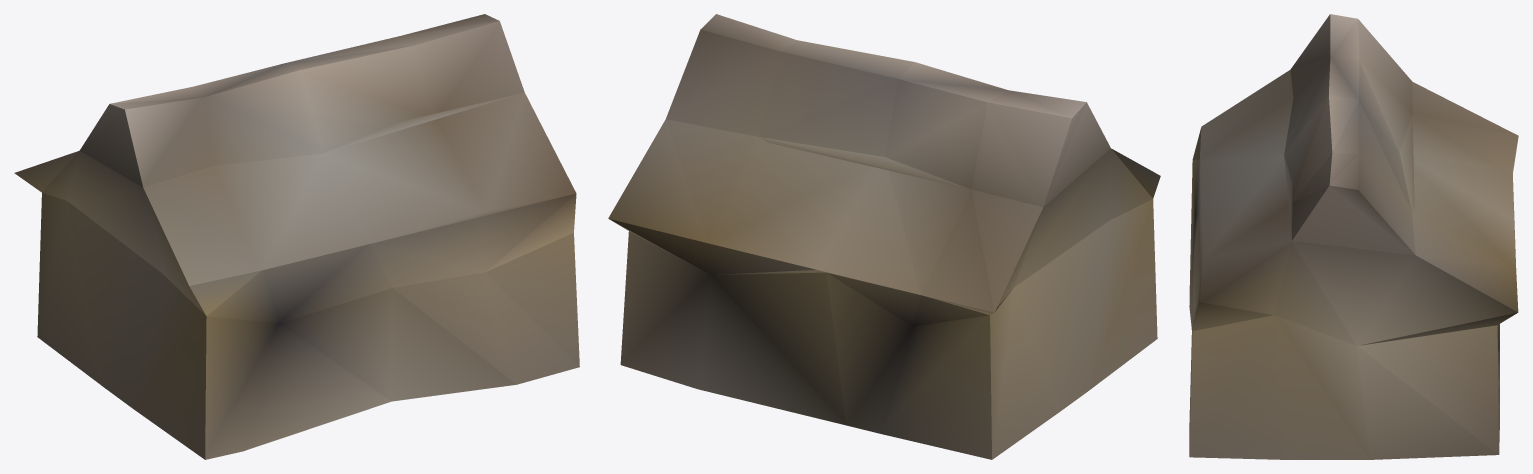
Rendered from hut_lod2.glb.
3 renders of one model, left to right at view 1: azimuth 30°, elevation 25°; view 2: azimuth 150°, elevation 25°; view 3: azimuth 270°, elevation 25°, orthographic. The views are drawn at different scales.
Visible parts, largest first — view 1: geometry_0; view 2: geometry_0; view 3: geometry_0.
Part boxes in pixels (x1,y1,x2,y2): geometry_0: (14, 14, 579, 459); geometry_0: (608, 14, 1160, 459); geometry_0: (1189, 14, 1518, 459).
Size of the model in its own units: 0.8205 by 0.595 by 0.6477.
